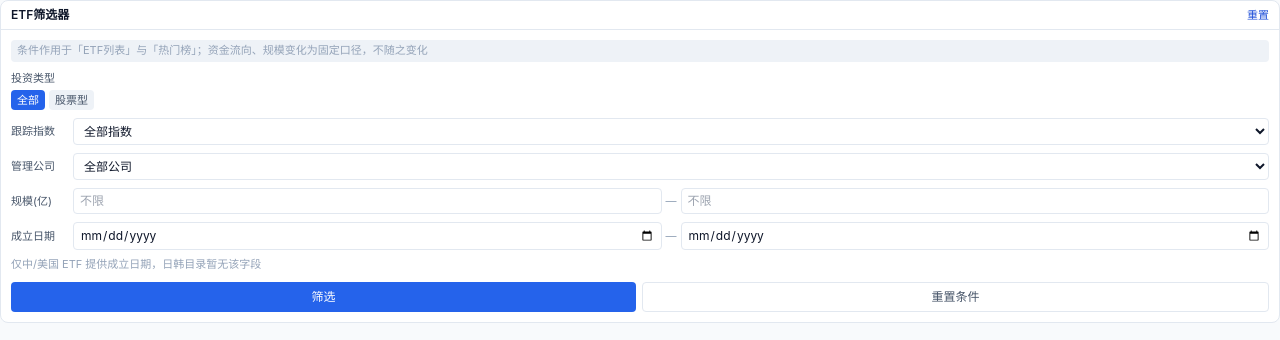
Test case: FilterPanel 草稿 + 显式应用契约 › 草稿与已应用值有差异时，「筛选」按钮显示未应用提示
The image size is (1280, 340).
Check: the button "筛选" is shown, box [11,282,636,312]
Step 1. Type "1" into the 1st number field with placeholder "不限" → coordinates (367, 201), box [73,188,662,214]
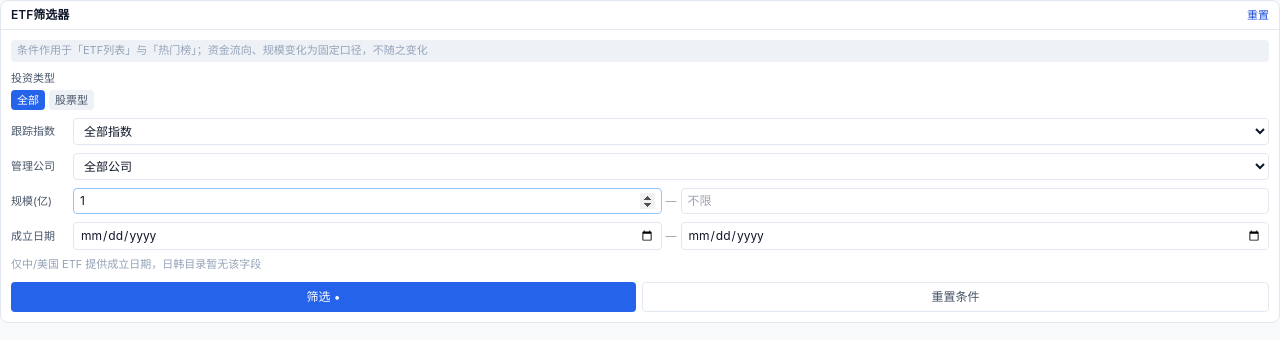
Check: the button "筛选 •" is shown, box [11,282,636,312]
